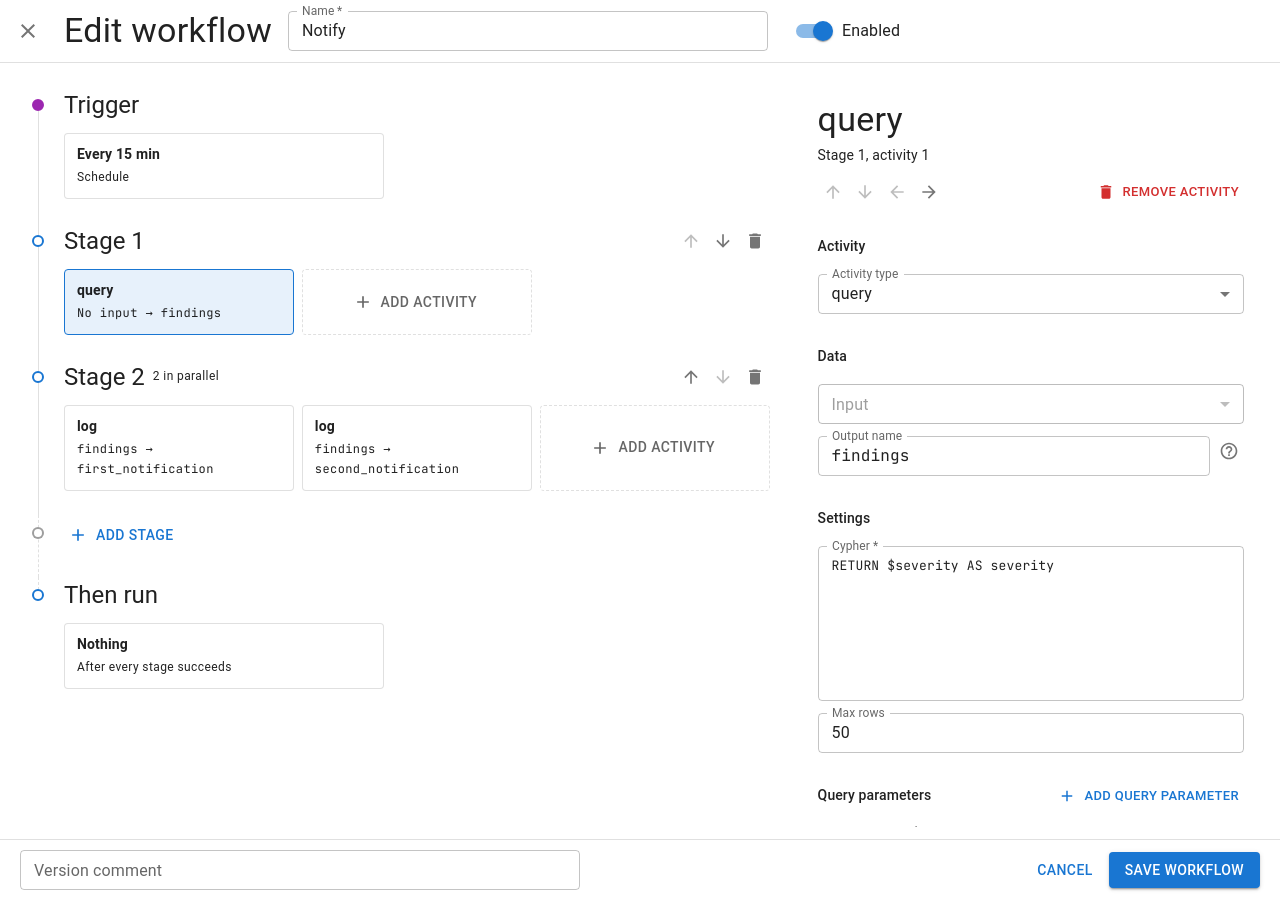
Test case: shows activity descriptions in accessible tooltips instead of inline help text
Expected: the text "Message written for every matching query result." is not shown
Click the button "log findings → first_notification" at [179, 448], box [64,405,294,491]
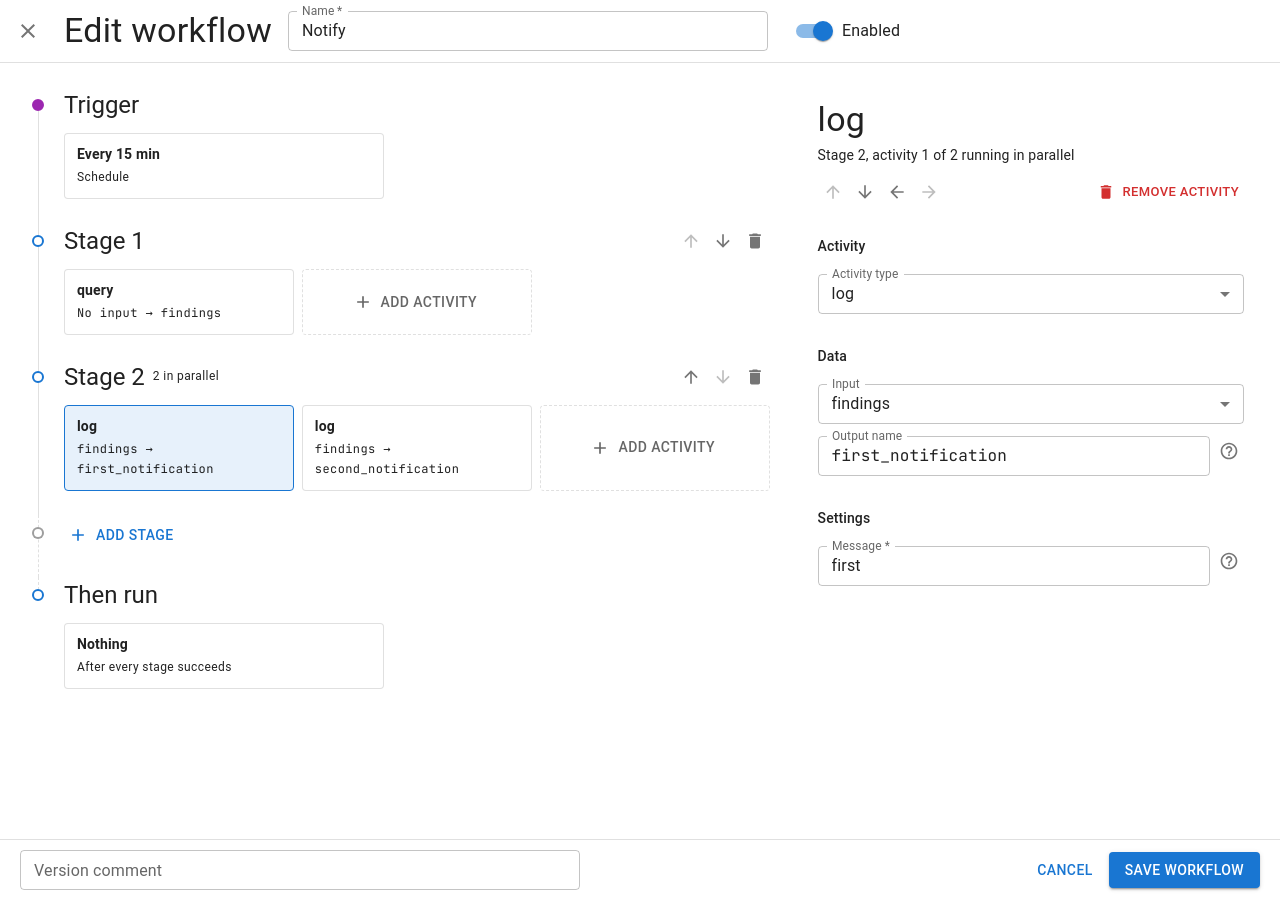
Hover over the button named "Help for Message" at [1229, 561], box [1214,546,1244,576]
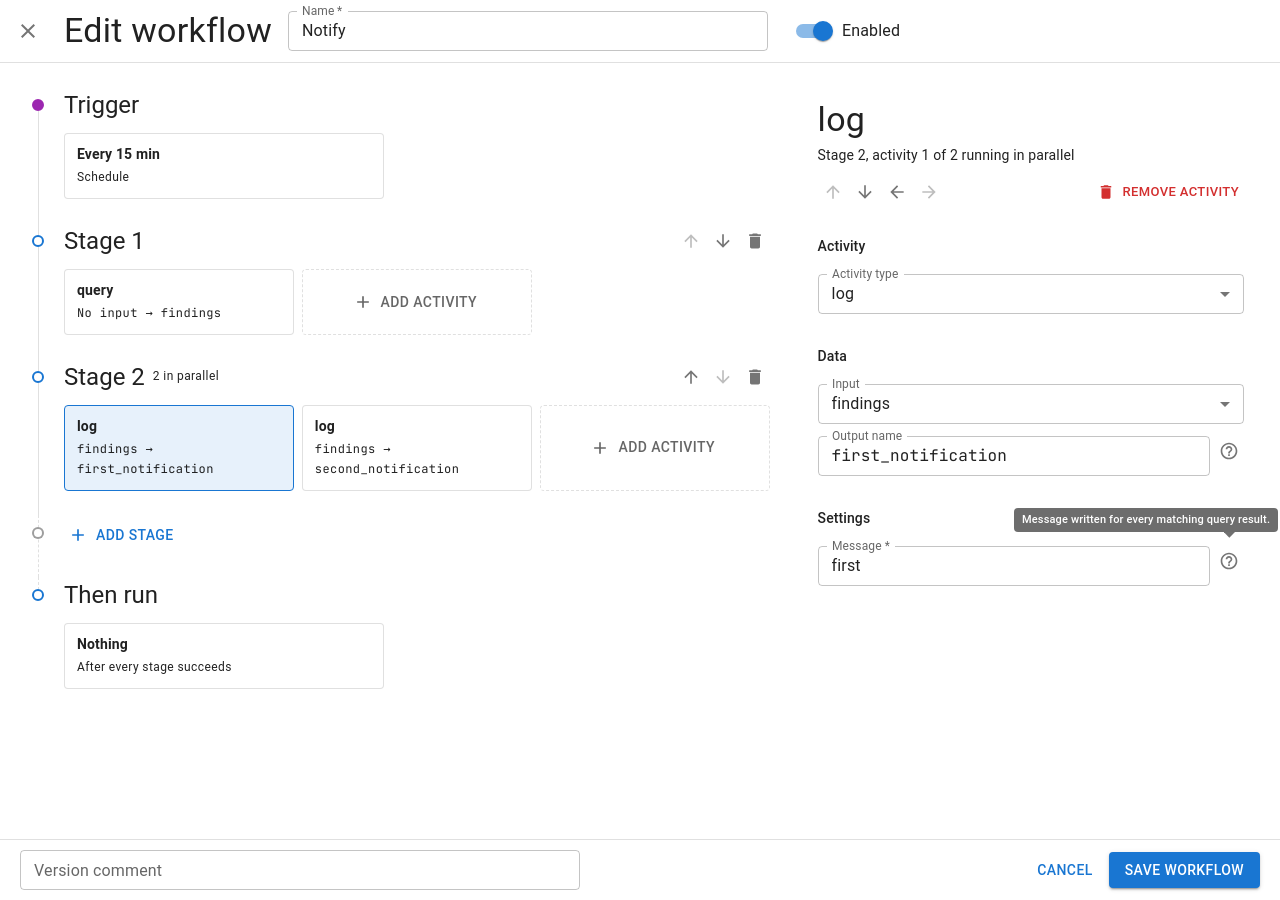
Expected: the tooltip "Message written for every matching query result." is shown, [1012,508,1279,546]
